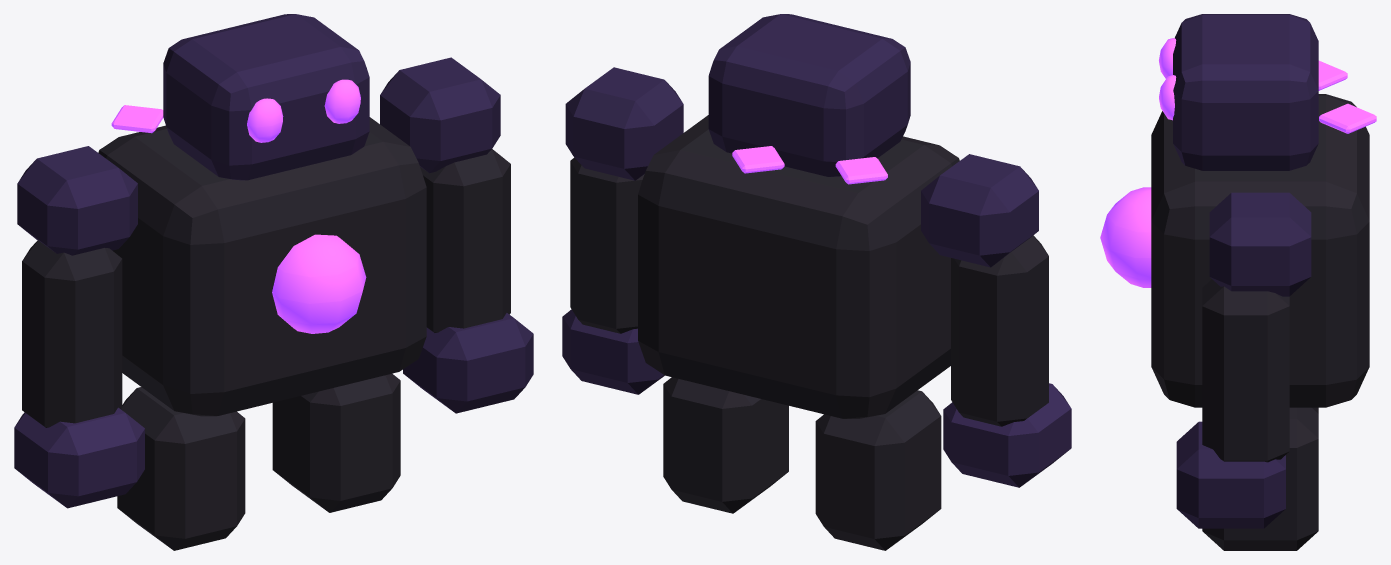
The model's file is monster_obsidian_golem.glb.
3 renders of one model, left to right at view 1: azimuth 30°, elevation 25°; view 2: azimuth 150°, elevation 25°; view 3: azimuth 270°, elevation 25°, orthographic. The views are drawn at different scales.
Visible parts, largest first — view 1: body_t0_palette, arml_t0_palette, armr_t0_palette, legl_t0_palette, legr_t0_palette, body_t0_shadow_glow; view 2: body_t0_palette, arml_t0_palette, armr_t0_palette, legl_t0_palette, legr_t0_palette, body_t0_shadow_glow; view 3: body_t0_palette, armr_t0_palette, body_t0_shadow_glow, legr_t0_palette.
Boxes of the visible parts, bbox=[...] form: body_t0_palette: bbox=[98, 14, 426, 416]; arml_t0_palette: bbox=[14, 146, 144, 508]; armr_t0_palette: bbox=[380, 57, 533, 413]; legl_t0_palette: bbox=[117, 387, 245, 550]; legr_t0_palette: bbox=[272, 373, 400, 512]; body_t0_shadow_glow: bbox=[111, 79, 366, 333]; body_t0_palette: bbox=[638, 14, 959, 418]; arml_t0_palette: bbox=[921, 154, 1071, 487]; armr_t0_palette: bbox=[562, 67, 683, 394]; legl_t0_palette: bbox=[815, 390, 941, 550]; legr_t0_palette: bbox=[663, 377, 788, 513]; body_t0_shadow_glow: bbox=[732, 146, 887, 184]; body_t0_palette: bbox=[1151, 14, 1369, 407]; armr_t0_palette: bbox=[1176, 192, 1311, 528]; body_t0_shadow_glow: bbox=[1100, 38, 1376, 287]; legr_t0_palette: bbox=[1202, 407, 1318, 550].
Size of the model in its own units: 0.375 by 0.35 by 0.1898.
